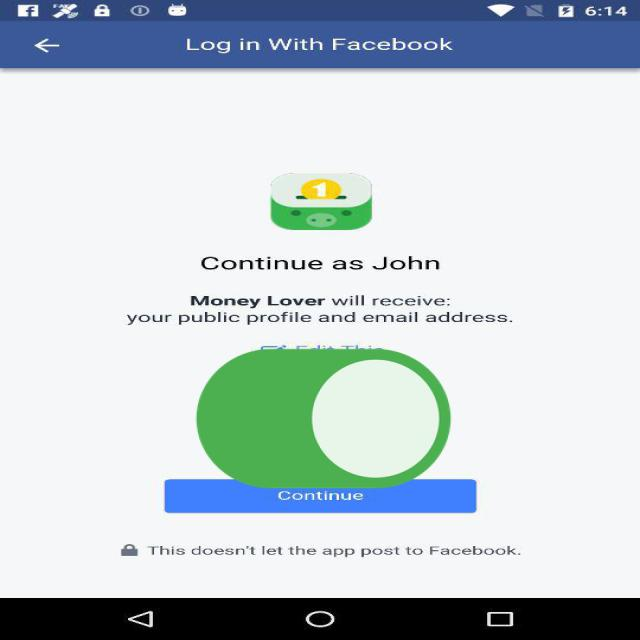social proof: (185, 295, 462, 553)
